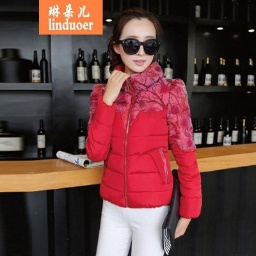face: (109, 6, 166, 80)
